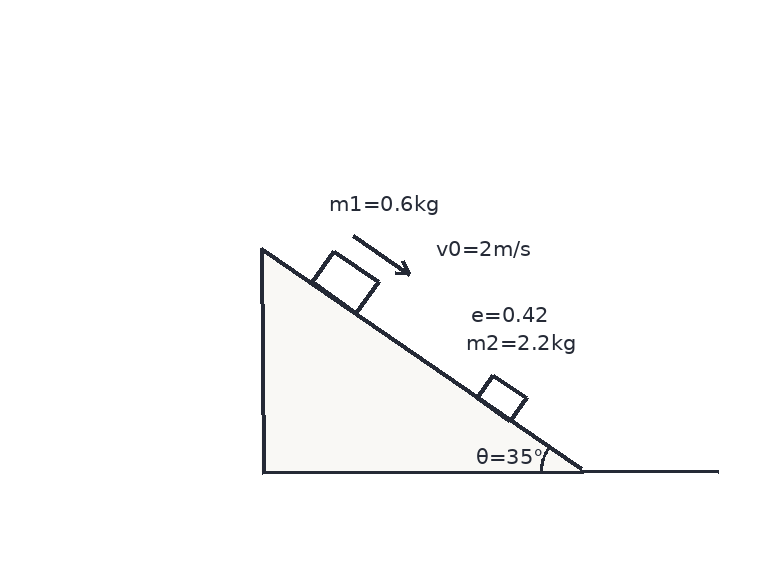block: (310, 248, 380, 315), (475, 372, 528, 423)
ramp: (260, 245, 583, 473)
